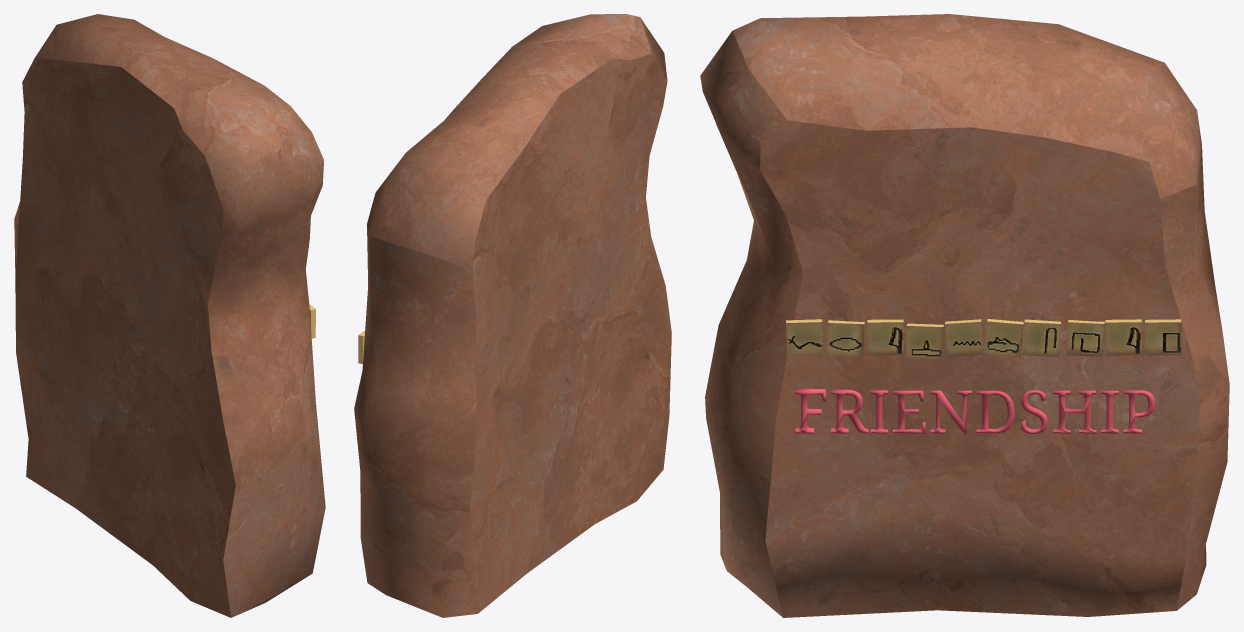
Rendered from MonoliteAmicizia.fbx.
3 views of the same model, side by side, from view 1: azimuth 30°, elevation 25°; view 2: azimuth 150°, elevation 25°; view 3: azimuth 270°, elevation 25° (orthographic). The views are drawn at different scales.
Parts seen in each view (by area): view 1: prim10; view 2: prim10; view 3: prim10, prim11, prim9, prim6, prim0, prim8, prim2, prim3, prim4, prim5, prim1, prim7.
Boxes of the visible parts, bbox=[...] form: prim10: bbox=[14, 14, 325, 617]; prim10: bbox=[354, 14, 671, 617]; prim10: bbox=[700, 14, 1229, 617]; prim11: bbox=[795, 388, 1154, 433]; prim9: bbox=[1145, 319, 1181, 355]; prim6: bbox=[867, 319, 903, 355]; prim0: bbox=[1105, 319, 1141, 355]; prim8: bbox=[786, 319, 823, 355]; prim2: bbox=[1022, 319, 1060, 356]; prim3: bbox=[984, 319, 1023, 357]; prim4: bbox=[945, 319, 983, 356]; prim5: bbox=[905, 323, 943, 359]; prim1: bbox=[1066, 320, 1104, 356]; prim7: bbox=[827, 320, 864, 357].
Bounding box in the file's own units: 44.99 × 168 × 145.
12 materials, 10 textured.
